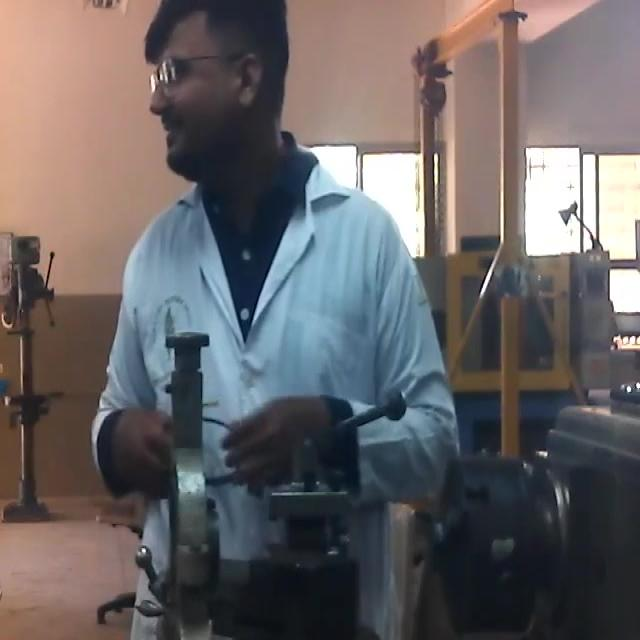labcoat: (92, 154, 461, 640)
